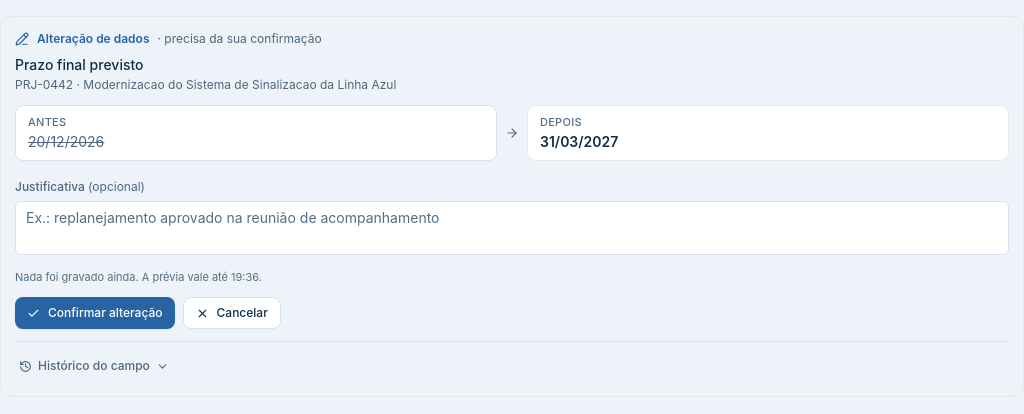
Test case: DataChangeCard › estado de cancelamento: descarta a prévia e informa que nada foi gravado
The width and height of the screenshot is (1024, 414).
Click the button "Cancelar" at (232, 313), box [182,297,281,329]
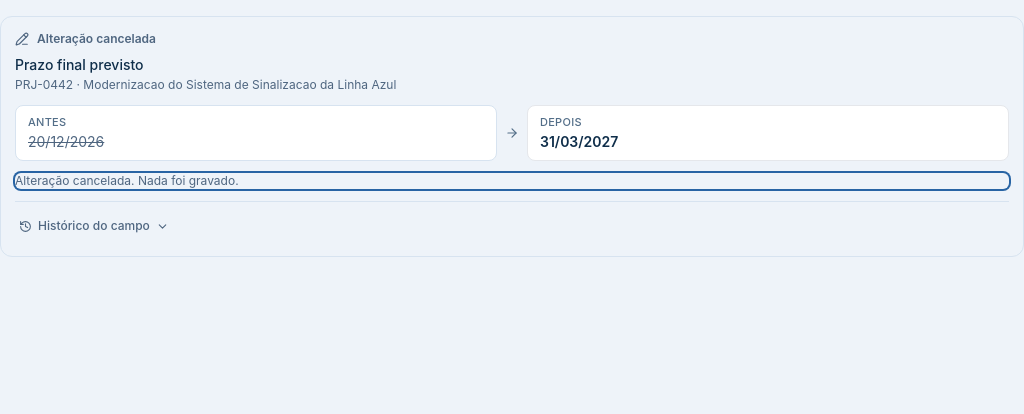
Check: the message reads "Alteração cancelada. Nada foi gravado.", box [15,173,239,188]
Check: the button "Confirmar alteração" is gone
